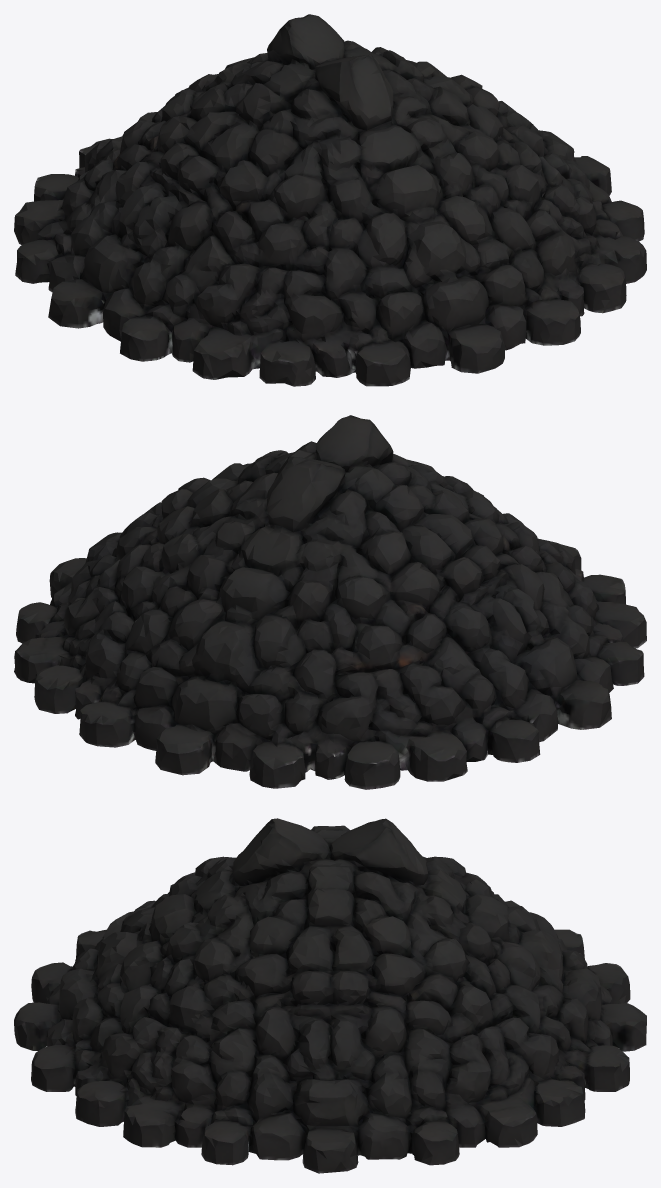
Rendered from rodin_Forge_Rubble_raw.glb.
3 renders of one model, top to bottom at view 1: azimuth 30°, elevation 25°; view 2: azimuth 150°, elevation 25°; view 3: azimuth 270°, elevation 25°, orthographic.
Parts seen in each view (by area): view 1: model; view 2: model; view 3: model.
Part boxes in pixels (left/top/right/bottom): model: left=14, top=14, right=646, bottom=386; model: left=14, top=415, right=646, bottom=789; model: left=14, top=818, right=646, bottom=1173.
Size of the model in its own units: 1.9 by 0.7175 by 1.9.
1 material, 1 textured.
